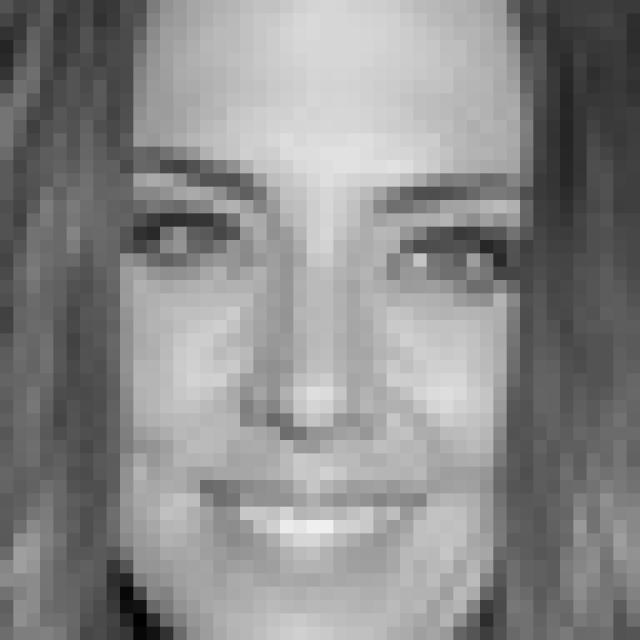happy: (129, 140, 526, 588)
